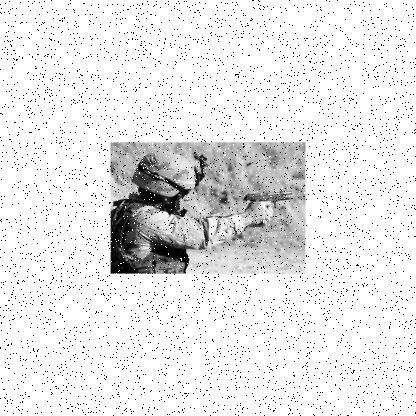gun: (240, 188, 292, 228)
